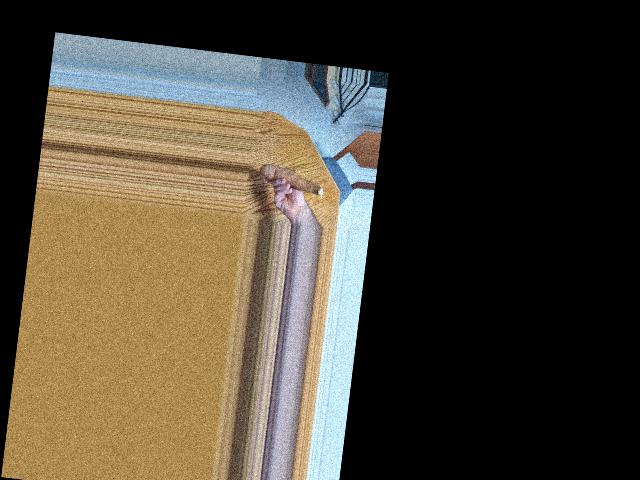sweet_potato: (260, 160, 328, 198)
